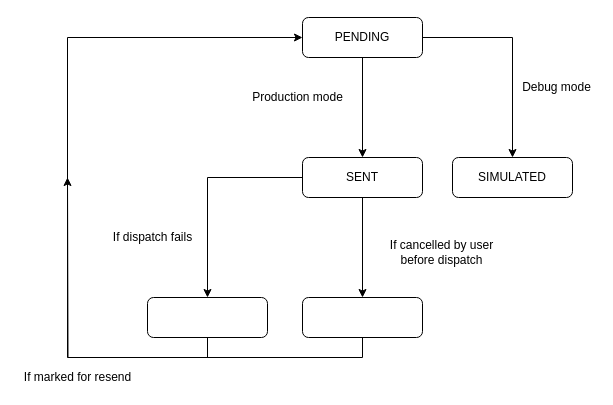
Some shapes in this 613 by 405 pixel diagram are drawn without their labels. The centre of each missing label's shape, as x and y in pixels:
"CANCELED" goes at (x=362, y=317).
"FAILED" goes at (x=207, y=317).
